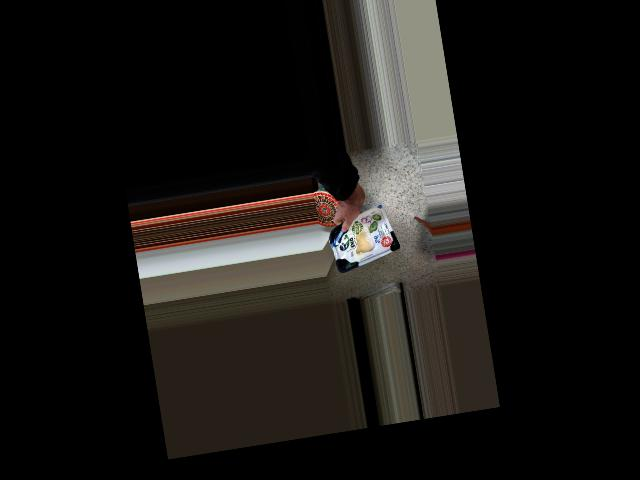cheese: (324, 203, 399, 274)
